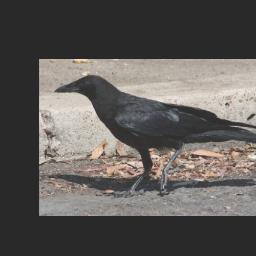Crow: (53, 72, 256, 196)
